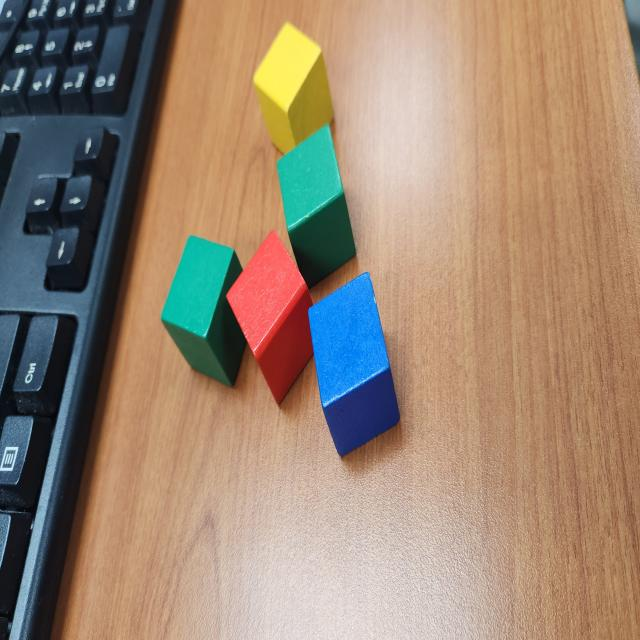blue: (308, 271, 402, 458)
green: (159, 236, 256, 388), (276, 124, 359, 291)
red: (226, 228, 322, 406)
yellow: (251, 22, 337, 160)
